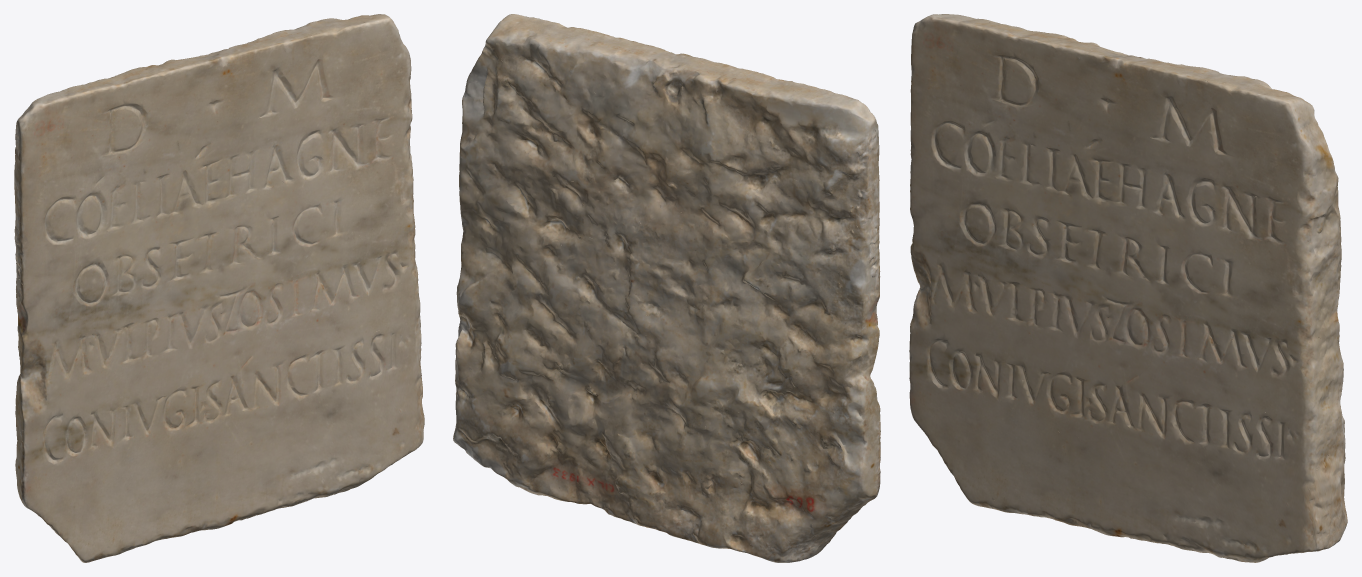
The model's file is 0869_inscription_low.glb.
3 renders of one model, left to right at view 1: azimuth 30°, elevation 25°; view 2: azimuth 150°, elevation 25°; view 3: azimuth 330°, elevation 25°, orthographic. The views are drawn at different scales.
Parts seen in each view (by area): view 1: Object_2; view 2: Object_2; view 3: Object_2.
Part boxes in pixels (<box>): Object_2: <box>14,14,424,562</box>; Object_2: <box>453,14,880,562</box>; Object_2: <box>909,14,1347,562</box>.
Bounding box in the file's own units: 0.21 × 0.234 × 0.0303.
1 material, 1 textured.
